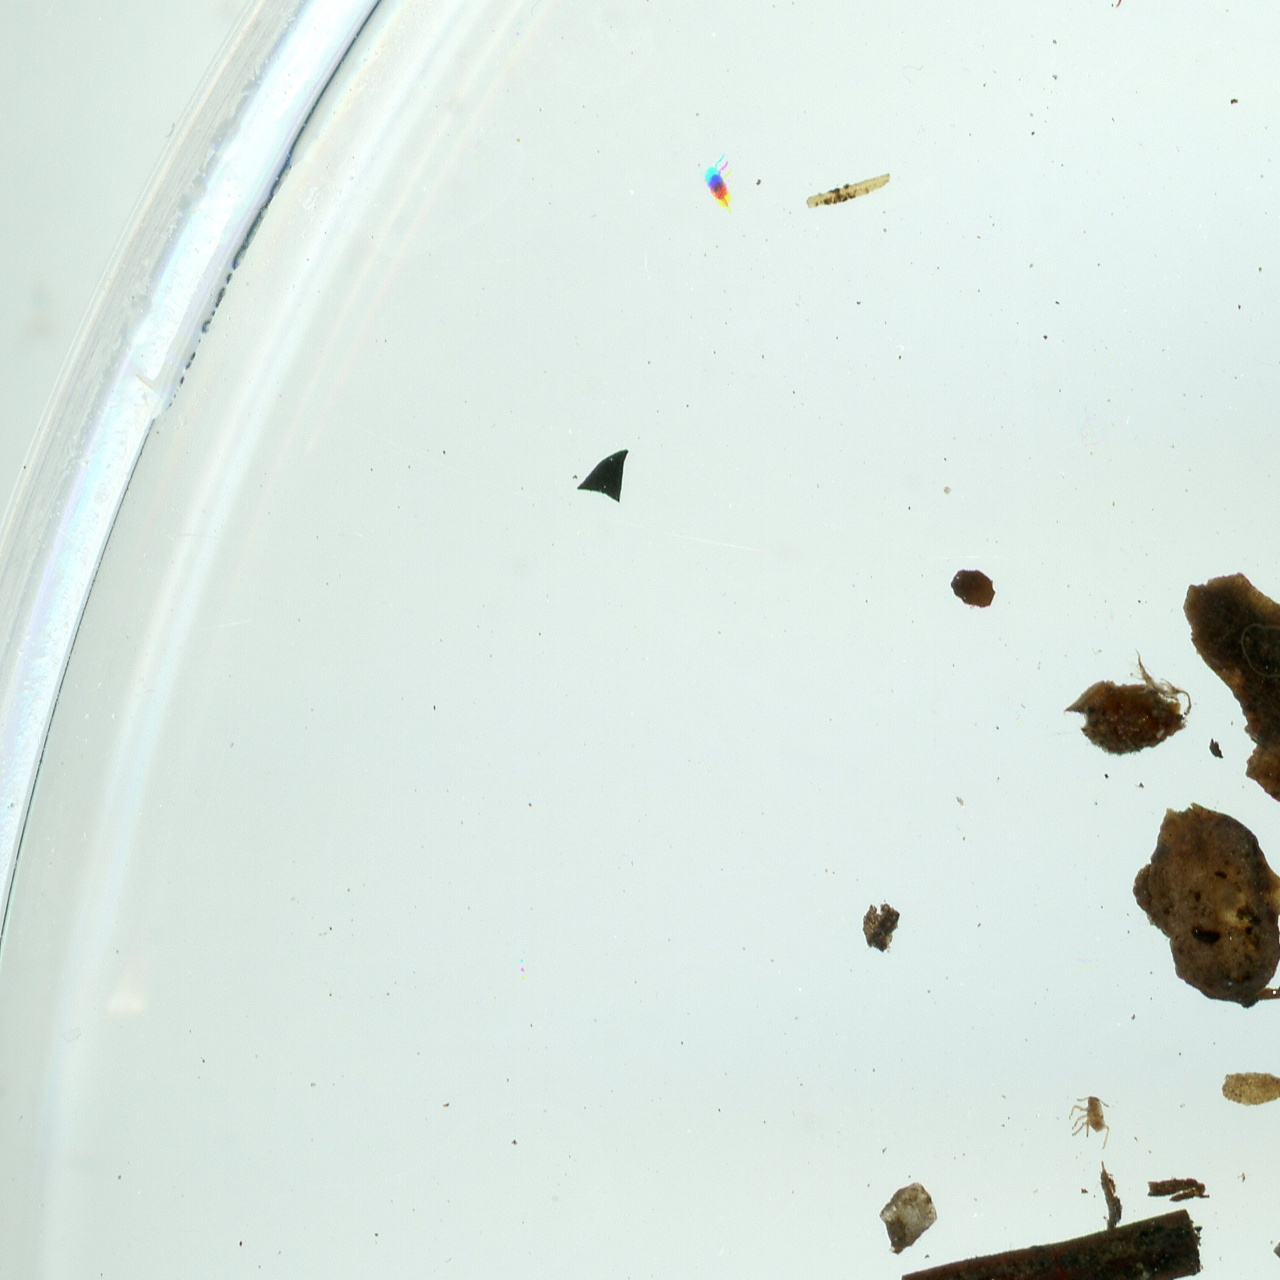arthropod: (1065, 1094, 1112, 1153), (1113, 0, 1167, 11)
